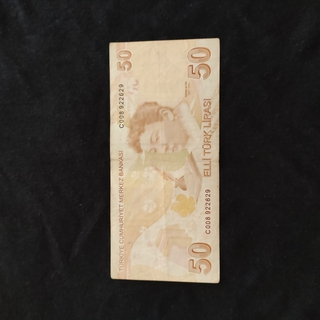50TLBack: (108, 37, 220, 284)
